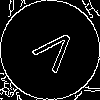V: (25, 25, 81, 81)
